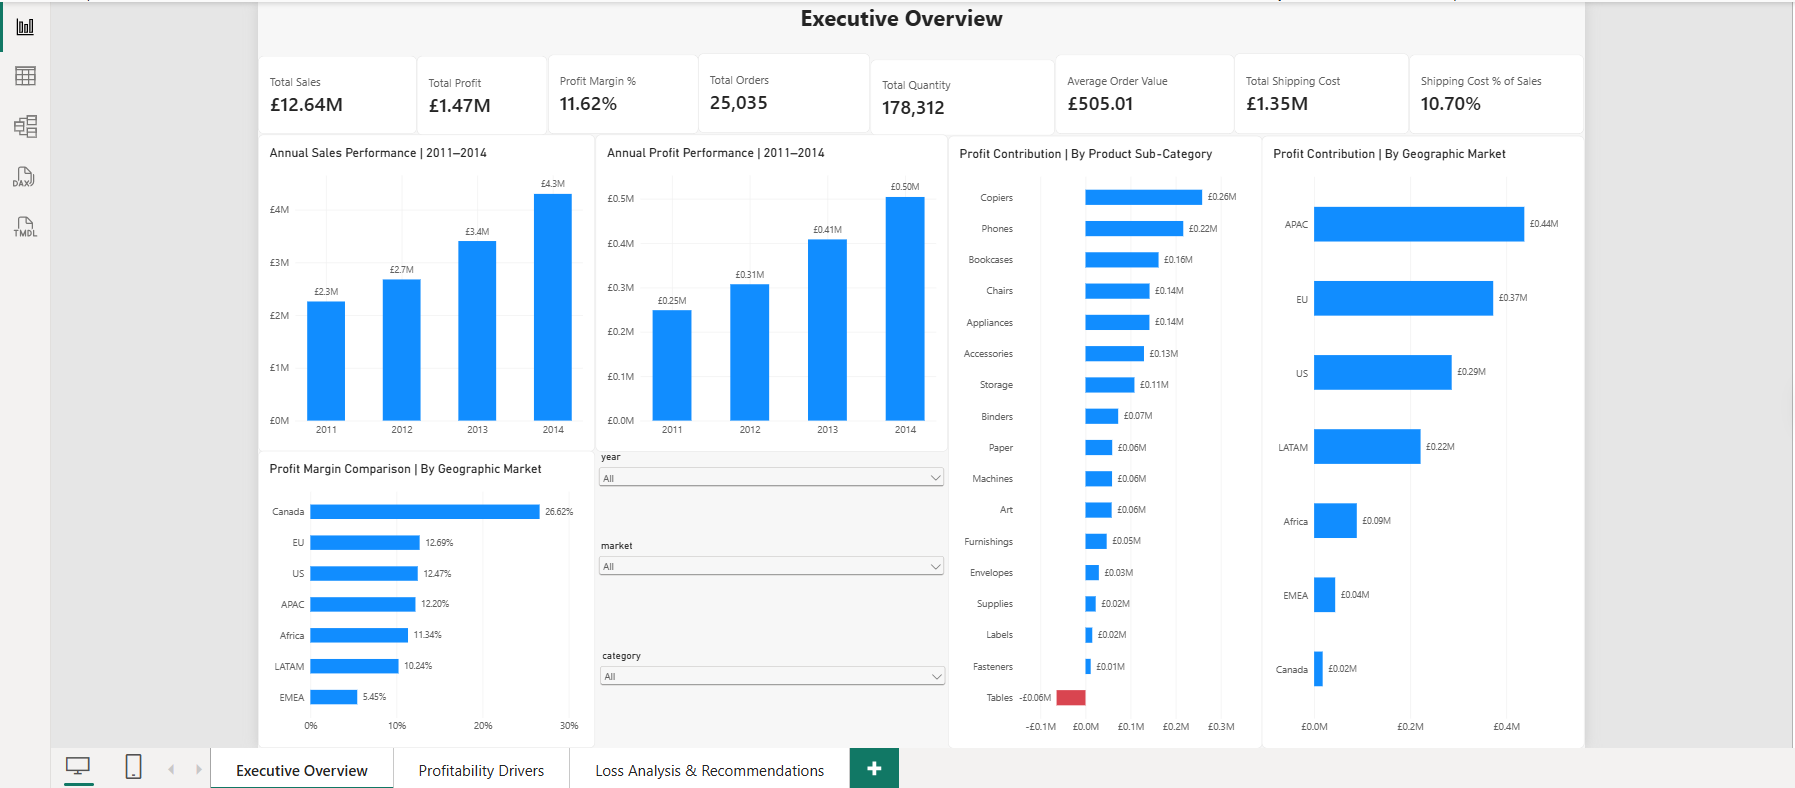

The dashboard page shown, as its layout file describes it:
{"tool":"powerbi","page":{"name":"Executive Overview","canvas":[1920,1080],"ordinal":0},"visuals":[{"type":"cardVisual","title":"Annual Sales Performance | 2011–2014","fields":{"Data":["MegaStore Sales.Total Sales"]},"box":[0,78.2,230.5,113.2],"z":0},{"type":"cardVisual","fields":{"Data":["MegaStore Sales.Total Profit"]},"box":[230.5,78.2,189.4,115.3],"z":1},{"type":"cardVisual","fields":{"Data":["MegaStore Sales.Profit Margin %"]},"box":[419.9,76.2,218.2,115.3],"z":2},{"type":"cardVisual","fields":{"Data":["MegaStore Sales.Total Orders"]},"box":[637.5,75,249.1,115.3],"z":3},{"type":"cardVisual","fields":{"Data":["MegaStore Sales.Total Quantity"]},"box":[887.5,82.5,267.5,110],"z":4},{"type":"cardVisual","fields":{"Data":["MegaStore Sales.Average Order Value"]},"box":[1154.7,76.2,259.3,115.3],"z":5},{"type":"cardVisual","fields":{"Data":["MegaStore Sales.Total Shipping Cost"]},"box":[1414.1,74.1,253.2,117.3],"z":6},{"type":"cardVisual","fields":{"Data":["MegaStore Sales.Shipping Cost % of Sales"]},"box":[1667.2,76.2,253.2,115.3],"z":7},{"type":"textbox","box":[535.2,0,792.5,76.2],"z":8},{"type":"clusteredColumnChart","title":"Annual Sales Performance | 2011–2014","fields":{"Category":["MegaStore Sales.year"],"Y":["MegaStore Sales.Total Sales"]},"box":[0,191.4,487.8,459],"z":9},{"type":"clusteredColumnChart","title":"Annual Profit Performance | 2011–2014","fields":{"Category":["MegaStore Sales.year"],"Y":["MegaStore Sales.Total Profit"]},"box":[487.8,191.4,510.5,459],"z":10},{"type":"clusteredBarChart","title":"Profit Contribution | By Product Sub-Category","fields":{"Category":["MegaStore Sales.sub_category"],"Y":["MegaStore Sales.Total Profit"]},"box":[998.3,193.5,454.9,887.1],"z":11},{"type":"clusteredBarChart","title":"Profit Contribution | By Geographic Market","fields":{"Category":["MegaStore Sales.market"],"Y":["MegaStore Sales.Total Profit"]},"box":[1453.2,193.5,467.2,887.1],"z":12},{"type":"clusteredBarChart","title":"Profit Margin Comparison | By Geographic Market","fields":{"Category":["MegaStore Sales.market"],"Y":["MegaStore Sales.Profit Margin %"]},"box":[0,650.4,487.8,430.2],"z":13},{"type":"slicer","fields":{"Values":["MegaStore Sales.year"]},"box":[488.3,650,510,128.3],"z":14},{"type":"slicer","fields":{"Values":["MegaStore Sales.market"]},"box":[488,778,510,160],"z":15},{"type":"slicer","fields":{"Values":["MegaStore Sales.category"]},"box":[490,938,510,142],"z":16}]}

Visuals, with their boxes on the page's 1920x1080 design canvas (x1, y1, x2, y2). These are canvas units, not pixel positions in the 1795x788 screenshot, which may show the page scaled, cropped or inside an application window:
"Annual Sales Performance | 2011–2014" cardVisual: 0,78,230,191
cardVisual - MegaStore Sales.Total Profit: 230,78,420,194
cardVisual - MegaStore Sales.Profit Margin %: 420,76,638,192
cardVisual - MegaStore Sales.Total Orders: 638,75,887,190
cardVisual - MegaStore Sales.Total Quantity: 888,82,1155,192
cardVisual - MegaStore Sales.Average Order Value: 1155,76,1414,192
cardVisual - MegaStore Sales.Total Shipping Cost: 1414,74,1667,191
cardVisual - MegaStore Sales.Shipping Cost % of Sales: 1667,76,1920,192
textbox: 535,0,1328,76
"Annual Sales Performance | 2011–2014" clusteredColumnChart: 0,191,488,650
"Annual Profit Performance | 2011–2014" clusteredColumnChart: 488,191,998,650
"Profit Contribution | By Product Sub-Category" clusteredBarChart: 998,194,1453,1081
"Profit Contribution | By Geographic Market" clusteredBarChart: 1453,194,1920,1081
"Profit Margin Comparison | By Geographic Market" clusteredBarChart: 0,650,488,1081
slicer - MegaStore Sales.year: 488,650,998,778
slicer - MegaStore Sales.market: 488,778,998,938
slicer - MegaStore Sales.category: 490,938,1000,1080
